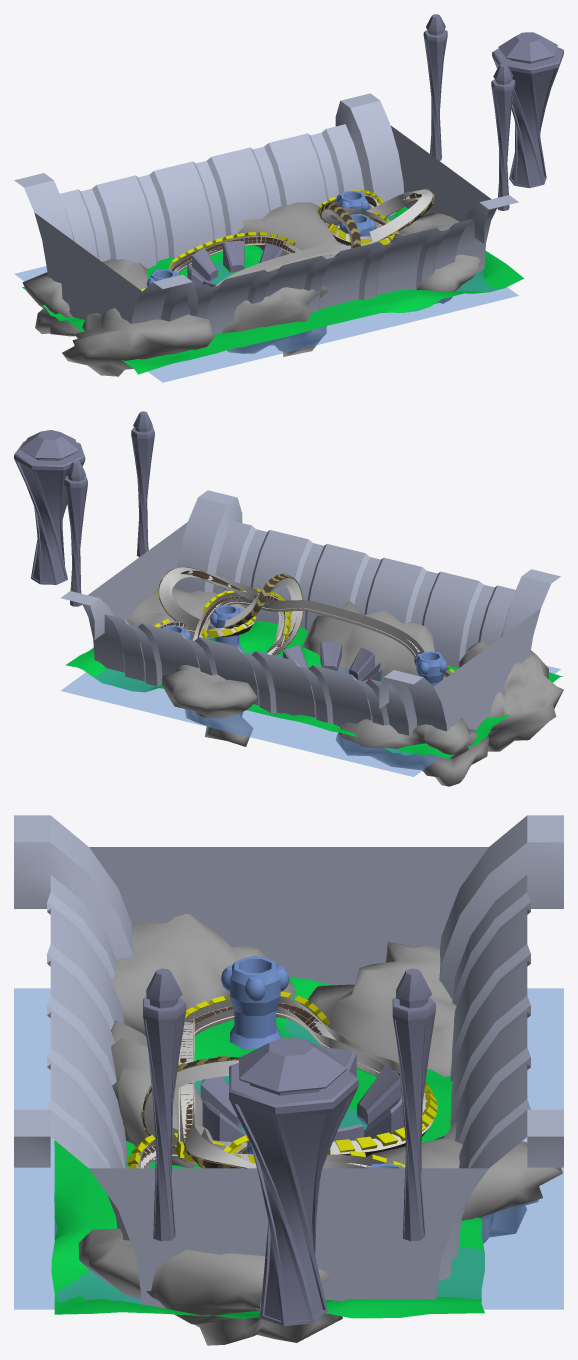
The model's file is Track_New.fbx.
3 renders of one model, top to bottom at view 1: azimuth 30°, elevation 25°; view 2: azimuth 150°, elevation 25°; view 3: azimuth 270°, elevation 25°, orthographic. The views are drawn at different scales.
Visible parts, largest first — view 1: Building_Walls, Floor, Water, Rocks, Circle_004, Rocks_002, Rocks_003, Rocks_001, Rocks_004, Circle_002, Circle_001, Track_main_wall (+6 smaller); view 2: Building_Walls, Water, Circle_004, Rocks_001, Rocks, Rocks_003, Floor, Rocks_002, Track_main_wall, Circle_001, Circle_002, Rocks_004 (+9 smaller); view 3: Building_Walls, Water, Circle_004, Floor, Rocks_004, Rocks_001, Rocks, Circle_002, Circle_001, Rocks_003, Rotunda, Building_Chimney3 (+7 smaller).
Part boxes in pixels (x1,y1,x2,y2): Building_Walls: [14, 93, 518, 334]; Floor: [22, 206, 523, 374]; Water: [14, 215, 518, 382]; Rocks: [62, 308, 214, 376]; Circle_004: [492, 32, 563, 188]; Rocks_002: [222, 286, 328, 356]; Rocks_003: [237, 202, 345, 258]; Rocks_001: [22, 259, 148, 336]; Rocks_004: [393, 213, 482, 303]; Circle_002: [423, 14, 447, 160]; Circle_001: [491, 63, 515, 210]; Track_main_wall: [168, 194, 405, 286]; Building_Walls: [60, 490, 560, 735]; Water: [61, 636, 560, 776]; Circle_004: [14, 430, 85, 584]; Rocks_001: [336, 718, 489, 786]; Rocks: [458, 640, 563, 751]; Rocks_003: [161, 665, 256, 746]; Floor: [66, 620, 563, 758]; Rocks_002: [302, 601, 434, 678]; Track_main_wall: [159, 590, 451, 678]; Circle_001: [131, 411, 154, 556]; Circle_002: [64, 460, 87, 606]; Rocks_004: [126, 588, 245, 639]; Building_Walls: [14, 815, 563, 1309]; Water: [14, 988, 563, 1309]; Circle_004: [229, 1037, 358, 1326]; Floor: [51, 977, 484, 1318]; Rocks_004: [78, 1228, 342, 1345]; Rocks_001: [307, 942, 456, 1076]; Rocks: [111, 914, 296, 1036]; Circle_002: [392, 968, 435, 1241]; Circle_001: [143, 968, 186, 1241]; Rocks_003: [366, 1120, 562, 1243]; Rotunda: [200, 1047, 404, 1142]; Building_Chimney3: [221, 955, 289, 1050].
Bounding box in the file's own units: 2156 × 975 × 1073.
